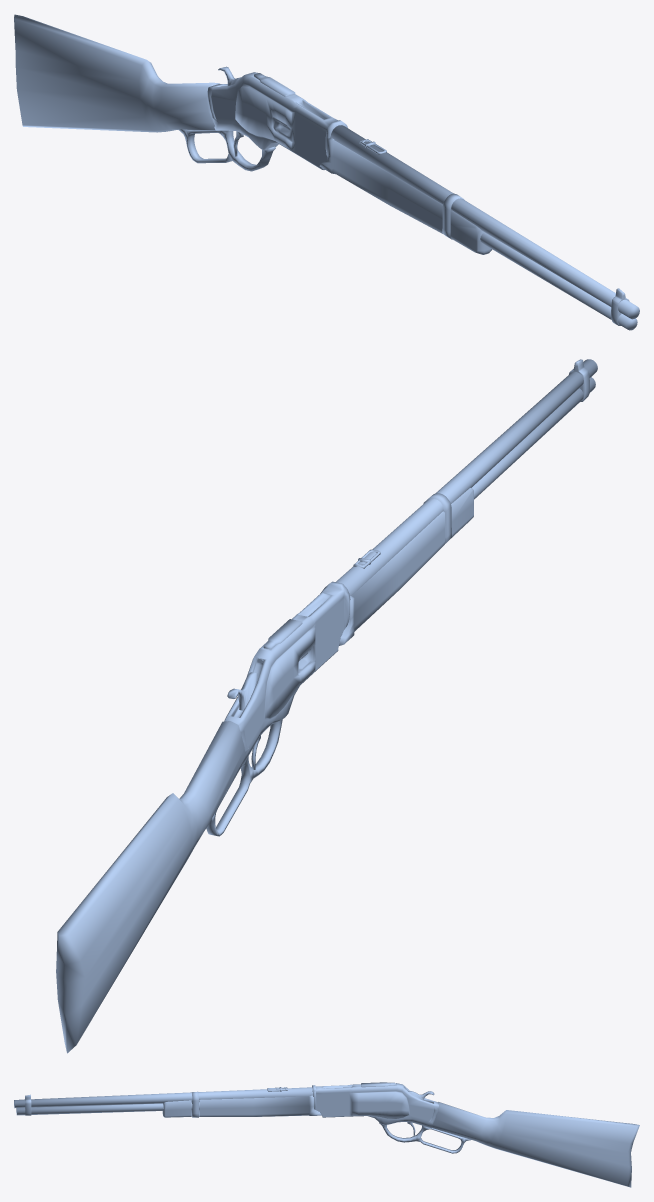
File: w_rifle.fbx
The picture shows the model from 3 angles, top to bottom: view 1: azimuth 30°, elevation 25°; view 2: azimuth 150°, elevation 25°; view 3: azimuth 270°, elevation 25°; orthographic projection. The views are drawn at different scales.
Visible parts, largest first — view 1: REF; view 2: REF; view 3: REF.
Part boxes in pixels (x1=…): REF: x1=14, y1=14, x2=639, y2=330; REF: x1=56, y1=359, x2=597, y2=1053; REF: x1=14, y1=1082, x2=639, y2=1187.
Bounding box in the file's own units: 56.55 × 109 × 539.
